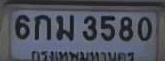0: (137, 16, 151, 40)
3: (82, 15, 96, 40)
5: (100, 15, 114, 40)
6: (14, 13, 29, 38)
8: (118, 16, 132, 40)
A01: (34, 14, 50, 39)
A33: (55, 14, 73, 40)
BKK: (27, 47, 137, 61)
